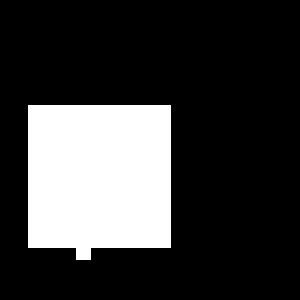circle: (28, 105, 171, 248), (76, 245, 91, 260)
